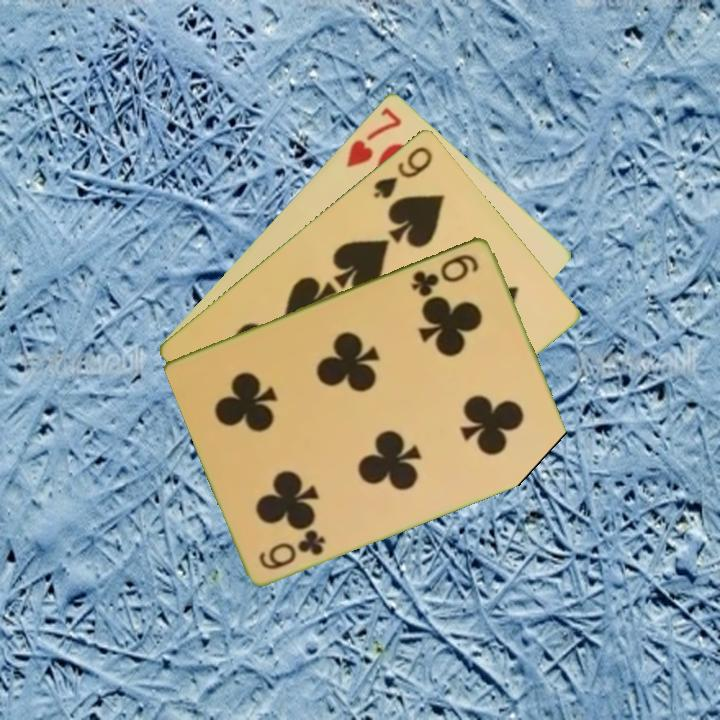6c: (408, 250, 482, 298), (255, 525, 328, 572)
7h: (342, 103, 405, 170)
9s: (369, 142, 436, 202)
